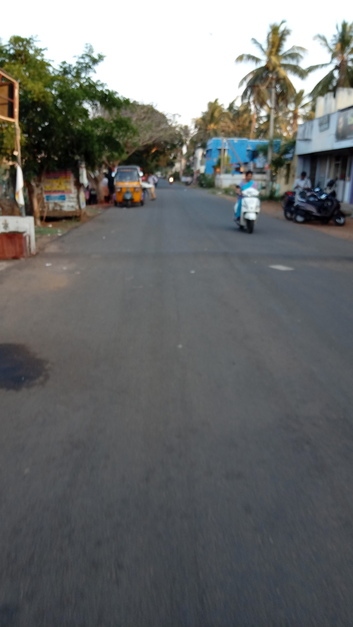bump: (24, 248, 353, 270)
